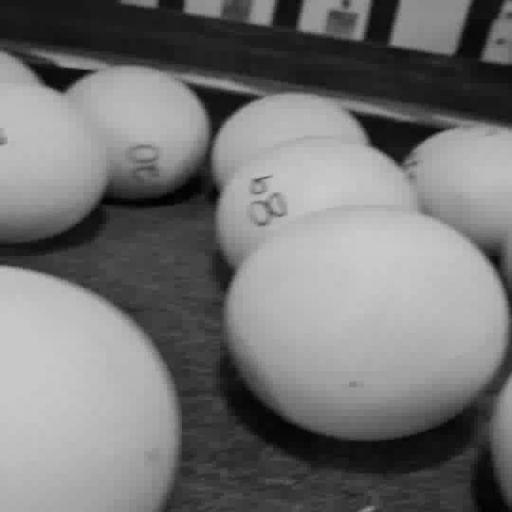fuel: (224, 208, 509, 441), (0, 266, 180, 511), (216, 138, 419, 269), (65, 66, 211, 199), (0, 84, 109, 243), (211, 92, 370, 189), (402, 124, 511, 252), (491, 374, 511, 509), (0, 51, 42, 84)
